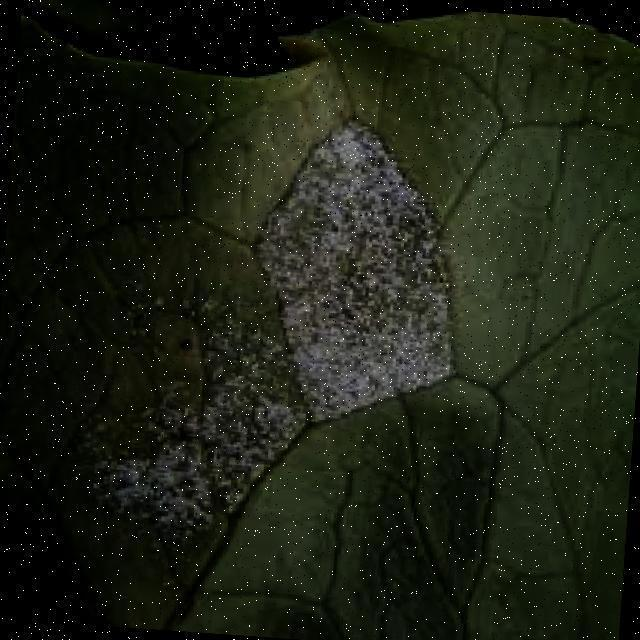Powdery_mildew_on_lettuce: (76, 91, 475, 544)
